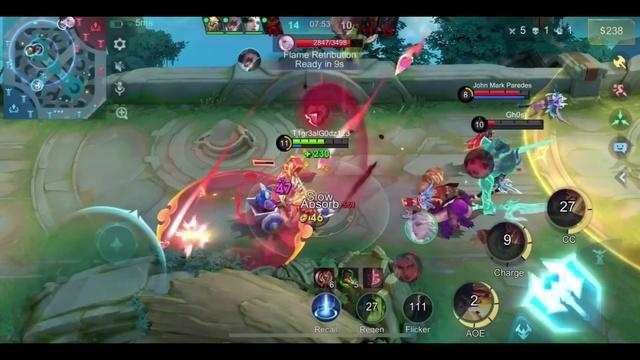Aurora: (459, 121, 496, 160)
Esbirro_Enemigo: (246, 183, 298, 232)
Exp_Enemigo: (65, 22, 76, 30), (58, 20, 66, 29)
HP_Enemigo: (487, 119, 543, 126), (474, 91, 526, 96)
HP_Heroe_Principal: (291, 139, 347, 143)
Jungla_Aliado: (32, 43, 43, 54)
Mana: (473, 95, 528, 101), (290, 143, 349, 147)
Mid_Aliado: (31, 79, 44, 92)
Mid_Enemigo: (60, 16, 69, 25)
Minimapa: (0, 16, 106, 119)
Roamer_Aliado: (25, 44, 35, 55)
Roamer_Enemigo: (65, 17, 75, 26)
Suyou: (469, 134, 560, 222)
Tigreal: (275, 154, 316, 213)
